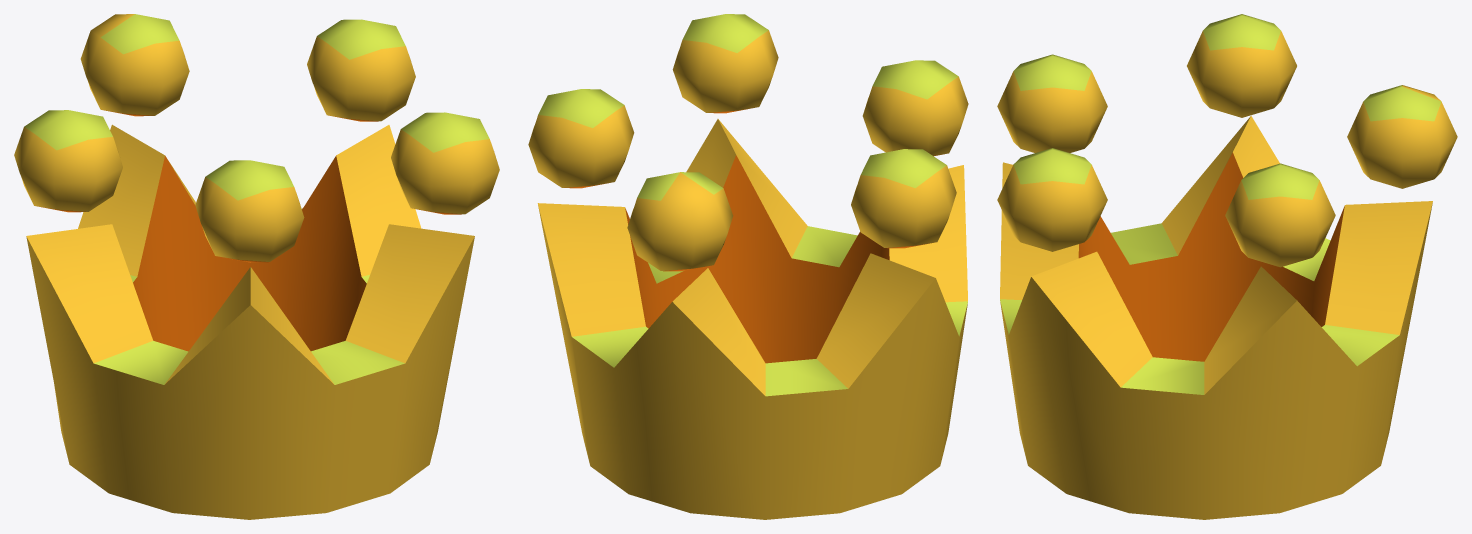
Rendered from crown.fbx.
3 renders of one model, left to right at view 1: azimuth 30°, elevation 25°; view 2: azimuth 150°, elevation 25°; view 3: azimuth 270°, elevation 25°, orthographic. The views are drawn at different scales.
Visible parts, largest first — view 1: crown; view 2: crown; view 3: crown.
Boxes of the visible parts, left/top/right/bottom form: crown: left=14, top=14, right=499, bottom=519; crown: left=528, top=14, right=968, bottom=519; crown: left=997, top=14, right=1457, bottom=519.
Size of the model in its own units: 115 by 94.84 by 114.
1 material, 1 textured.
